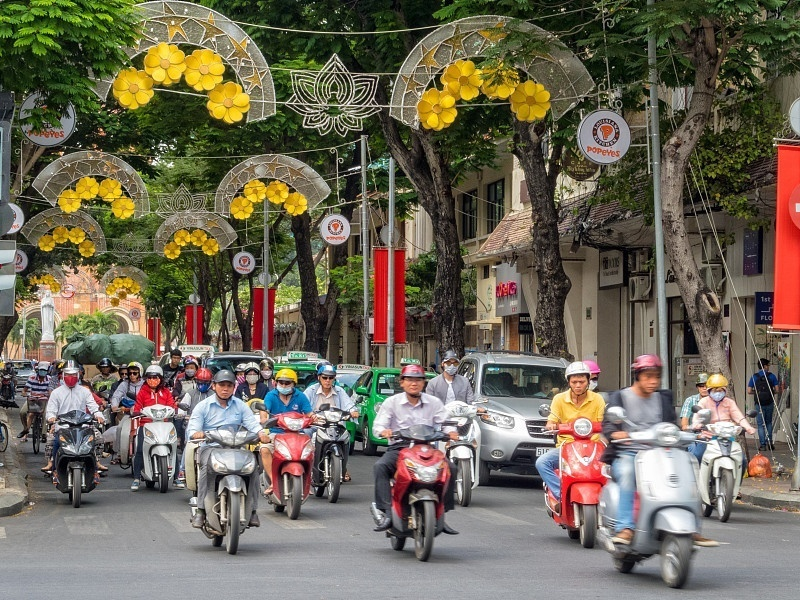non-vehicle: (602, 412, 708, 583), (373, 412, 459, 556), (184, 413, 266, 549), (543, 420, 597, 545), (689, 416, 751, 519), (263, 396, 316, 512), (44, 404, 103, 504), (309, 399, 355, 509), (309, 402, 353, 504), (133, 397, 179, 493), (440, 401, 479, 501)
